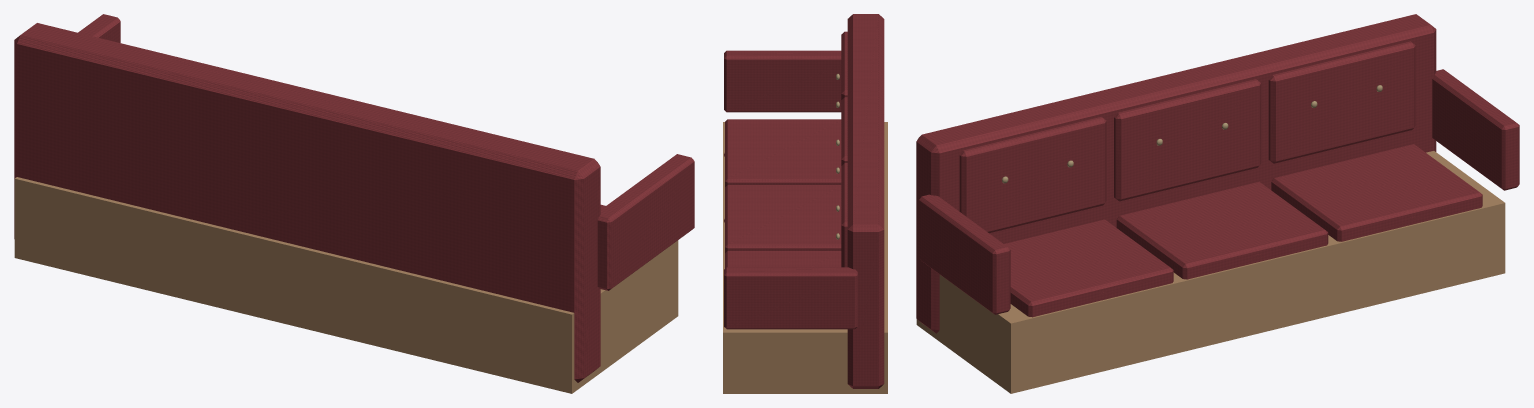
The model's file is yokocho-banquette.glb.
3 renders of one model, left to right at view 1: azimuth 30°, elevation 25°; view 2: azimuth 150°, elevation 25°; view 3: azimuth 270°, elevation 25°, orthographic. The views are drawn at different scales.
Visible parts, largest first — view 1: Shops/S04/Personality/Seating/Banquette__Night_WineUpholster, Shops/S04/Personality/Seating/Banquette__Night_Walnut; view 2: Shops/S04/Personality/Seating/Banquette__Night_WineUpholster, Shops/S04/Personality/Seating/Banquette__Night_Walnut; view 3: Shops/S04/Personality/Seating/Banquette__Night_WineUpholster, Shops/S04/Personality/Seating/Banquette__Night_Walnut.
Part boxes in pixels (<box>): Shops/S04/Personality/Seating/Banquette__Night_WineUpholster: <box>14,14,694,382</box>; Shops/S04/Personality/Seating/Banquette__Night_Walnut: <box>14,177,678,393</box>; Shops/S04/Personality/Seating/Banquette__Night_WineUpholster: <box>724,14,884,388</box>; Shops/S04/Personality/Seating/Banquette__Night_Walnut: <box>723,122,887,393</box>; Shops/S04/Personality/Seating/Banquette__Night_WineUpholster: <box>916,14,1519,333</box>; Shops/S04/Personality/Seating/Banquette__Night_Walnut: <box>916,151,1505,393</box>.
Size of the model in its own units: 2.17 by 1.02 by 2.87.
3 materials, 1 textured.
